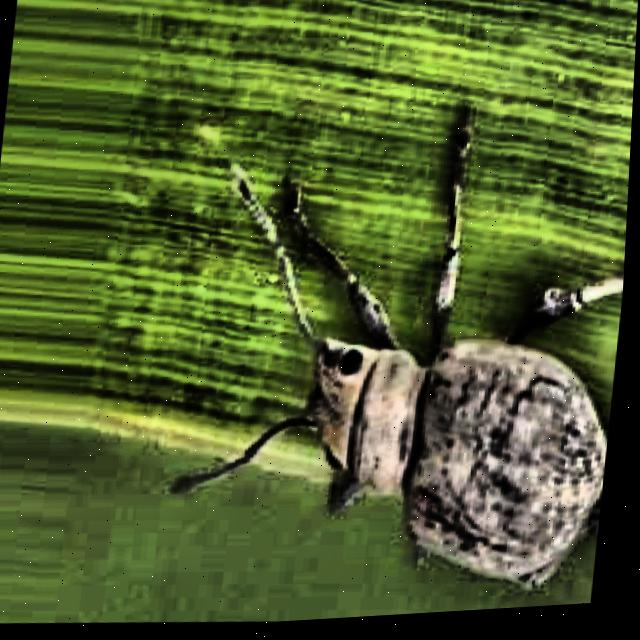Stink bug: (166, 219, 630, 608)
